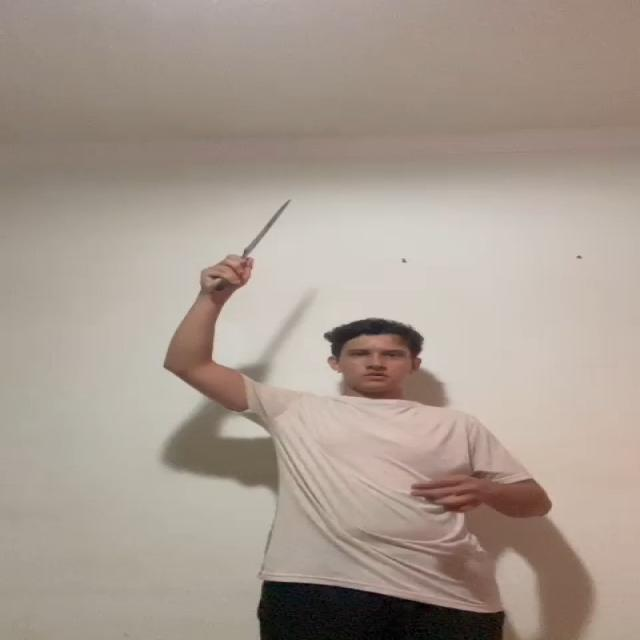knife: (236, 199, 296, 253)
